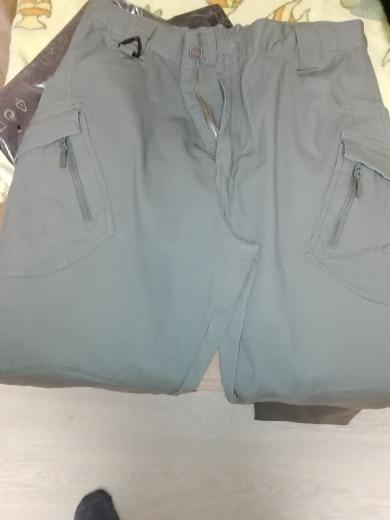pants: (3, 1, 390, 410)
